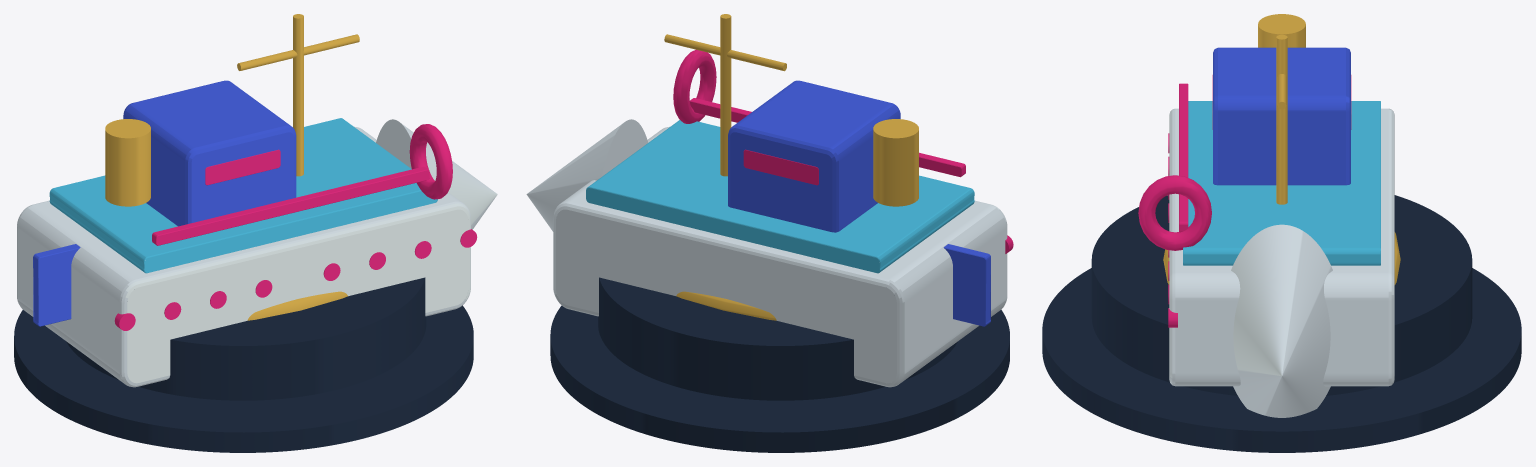
The model's file is 0440_探秘火星图鉴_天问一号环绕器.glb.
The picture shows the model from 3 angles, left to right: view 1: azimuth 30°, elevation 25°; view 2: azimuth 150°, elevation 25°; view 3: azimuth 270°, elevation 25°; orthographic projection. The views are drawn at different scales.
Visible parts, largest first — view 1: card_0440; view 2: card_0440; view 3: card_0440.
Boxes of the visible parts, x1,y1,x2,y2 form: card_0440: (14, 14, 497, 452); card_0440: (526, 14, 1013, 452); card_0440: (1042, 14, 1521, 452).
Size of the model in its own units: 1.48 by 1 by 1.27.
